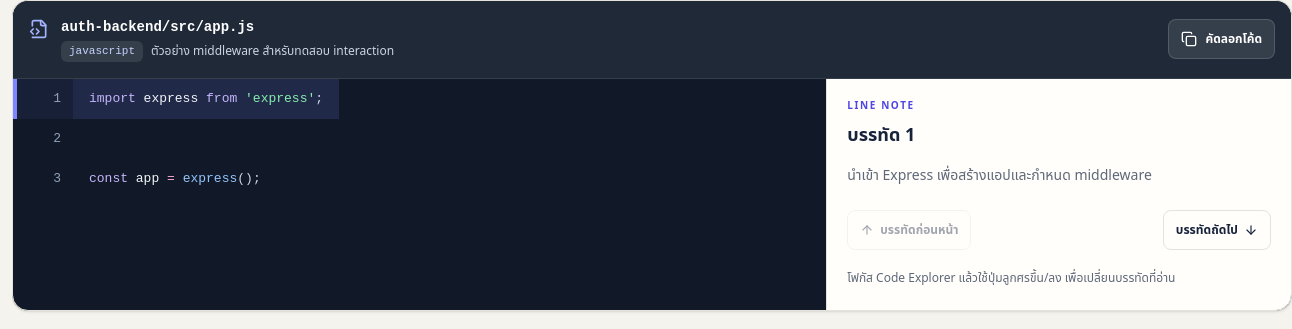
Test case: CodeExplorer › shows file metadata, contained code, line numbers, and blank-line explanations
Expected: the heading "auth-backend/src/app.js" is shown, [61,19,254,35]
Expected: the text "javascript" is shown, [61,41,143,62]
Click the button named "บรรทัด 2": {"x": 63, "y": 138} [13,118,113,158]
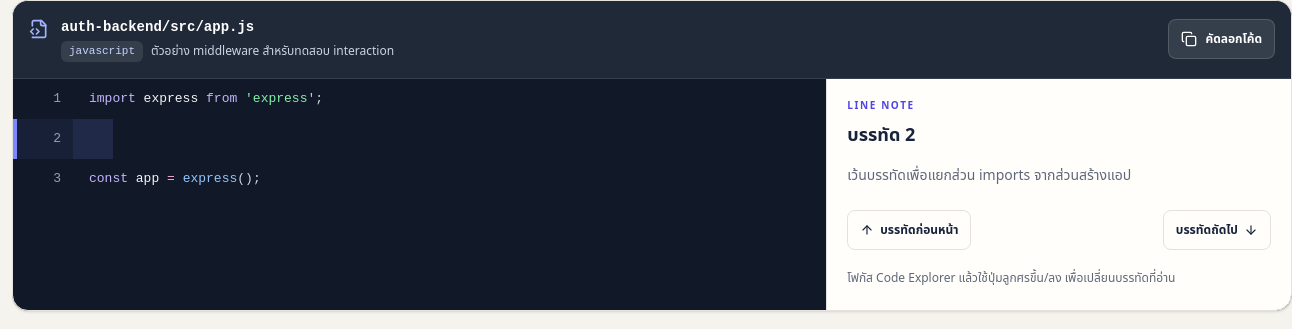
Now the text "เว้นบรรทัดเพื่อแยกส่วน imports จากส่วนสร้างแอป" is shown, box [847,164,1131,186]
